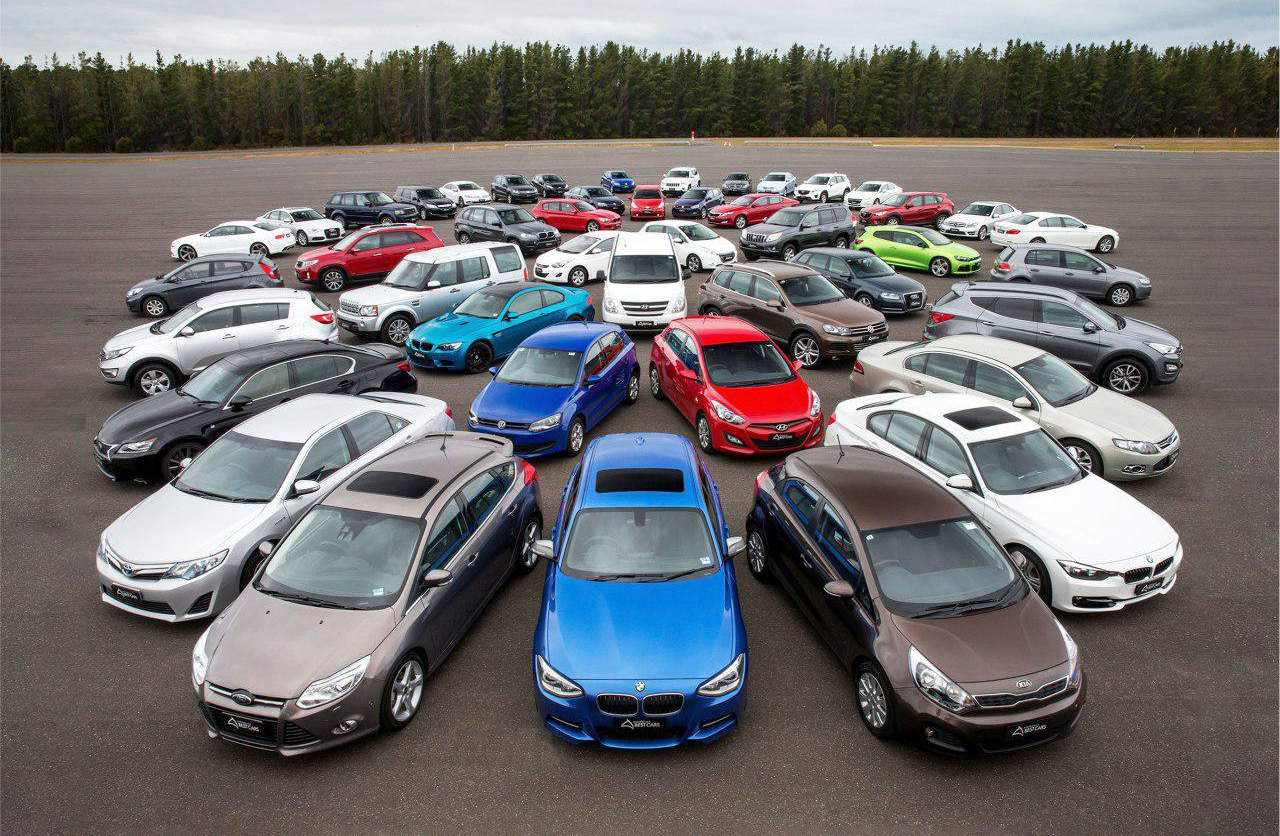Car: (190, 431, 543, 756), (745, 445, 1086, 754), (95, 392, 457, 623), (823, 390, 1183, 615), (532, 432, 749, 750), (848, 334, 1181, 481), (92, 337, 419, 484), (921, 279, 1184, 395), (98, 287, 340, 397), (647, 315, 825, 457), (467, 320, 641, 459), (697, 259, 890, 370), (336, 241, 530, 347), (405, 282, 596, 374), (294, 223, 446, 293), (990, 242, 1152, 307), (125, 252, 284, 318), (596, 231, 693, 335), (786, 247, 928, 315), (738, 203, 857, 261), (852, 225, 982, 277), (454, 203, 562, 257), (989, 211, 1119, 254), (170, 220, 297, 262), (639, 220, 738, 273), (533, 230, 622, 287), (858, 191, 955, 231), (323, 191, 420, 229), (256, 207, 346, 246), (940, 200, 1023, 240), (707, 194, 800, 229), (532, 198, 622, 233), (392, 186, 457, 220), (563, 186, 626, 216), (793, 173, 852, 204), (671, 186, 726, 219), (843, 181, 904, 210), (626, 184, 667, 220), (491, 174, 538, 204), (439, 181, 492, 207), (660, 167, 701, 197), (756, 171, 797, 196), (531, 173, 569, 198), (601, 170, 636, 193), (721, 172, 752, 195)
